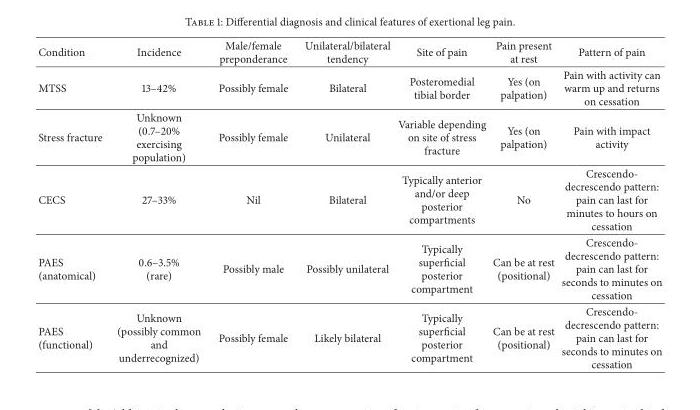table: (37, 37, 661, 371)
table column: (557, 37, 661, 371), (108, 37, 208, 371), (295, 37, 393, 371), (393, 37, 488, 371), (208, 37, 295, 371), (37, 37, 108, 371), (488, 37, 557, 371)
table column header: (37, 37, 661, 66)
table row: (37, 164, 661, 233), (37, 233, 661, 302), (37, 302, 661, 371), (37, 108, 661, 164), (37, 66, 661, 108), (37, 37, 661, 66)
